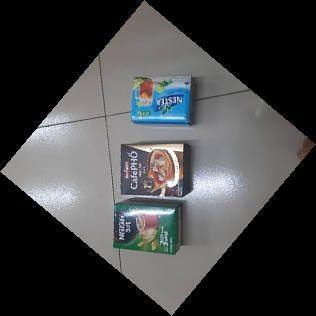CF pho: (119, 141, 191, 199)
Nes Rang: (112, 199, 184, 256)
Nestea: (130, 75, 196, 128)
